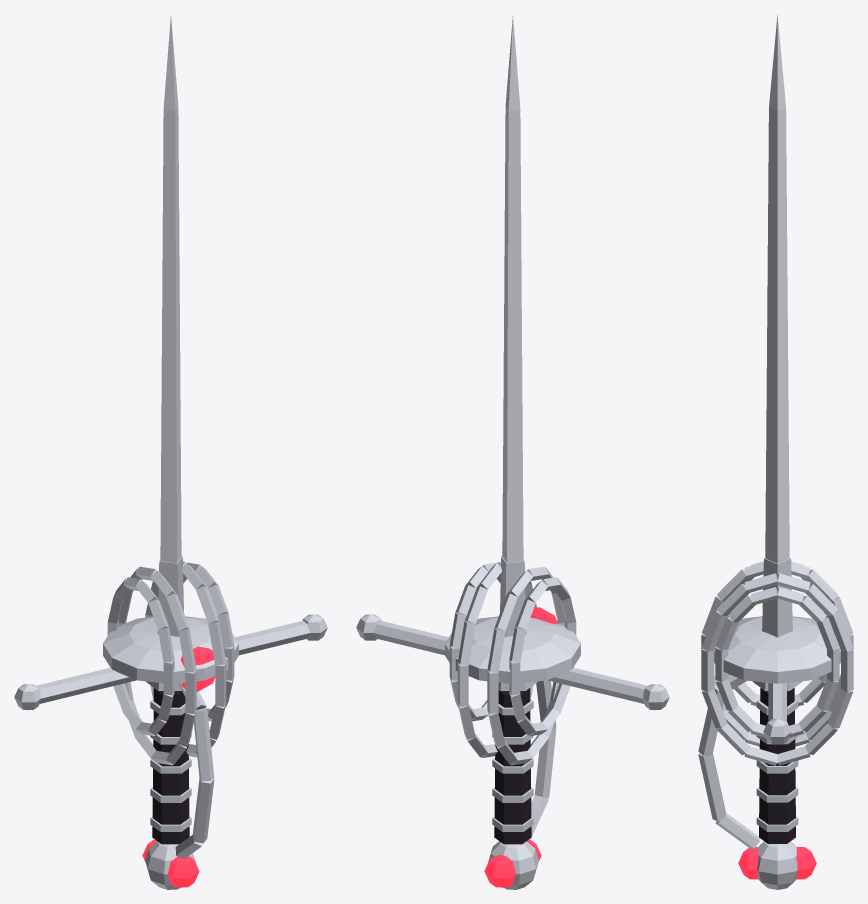
File: morvaine_rapier.glb
3 views of the same model, side by side, from view 1: azimuth 30°, elevation 25°; view 2: azimuth 150°, elevation 25°; view 3: azimuth 270°, elevation 25° (orthographic).
Visible parts, largest first — view 1: morvaine_rapier; view 2: morvaine_rapier; view 3: morvaine_rapier.
Boxes of the visible parts, bbox=[...] form: morvaine_rapier: bbox=[14, 16, 327, 889]; morvaine_rapier: bbox=[356, 16, 669, 889]; morvaine_rapier: bbox=[698, 14, 853, 889].
Size of the model in its own units: 0.4946 by 1.35 by 0.2173.
